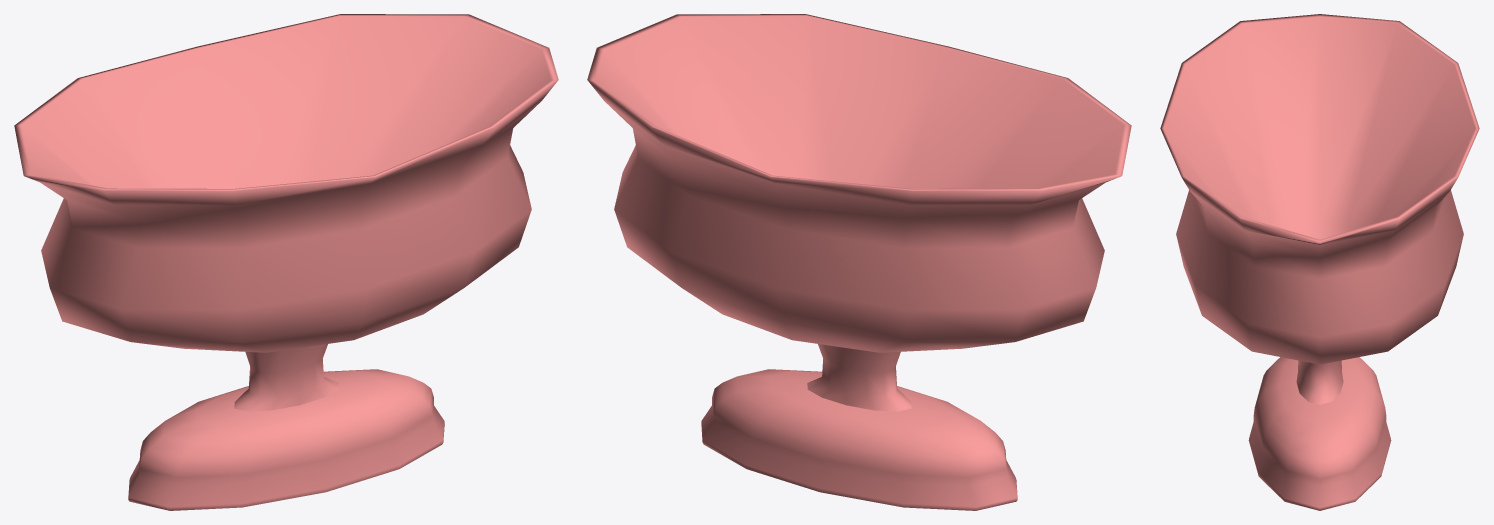
Rendered from copa_Generica_5.FBX.
3 renders of one model, left to right at view 1: azimuth 30°, elevation 25°; view 2: azimuth 150°, elevation 25°; view 3: azimuth 270°, elevation 25°, orthographic. The views are drawn at different scales.
Visible parts, largest first — view 1: copa_Generica_5; view 2: copa_Generica_5; view 3: copa_Generica_5.
Boxes of the visible parts, x1,y1,x2,y2 form: copa_Generica_5: (14,14,558,510); copa_Generica_5: (587,14,1131,510); copa_Generica_5: (1160,14,1479,510).
Bounding box in the file's own units: 119 × 78.3 × 70.36.
